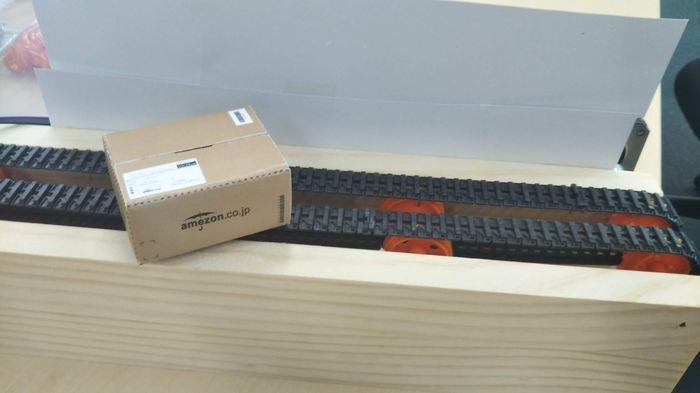box1: (98, 99, 295, 266)
